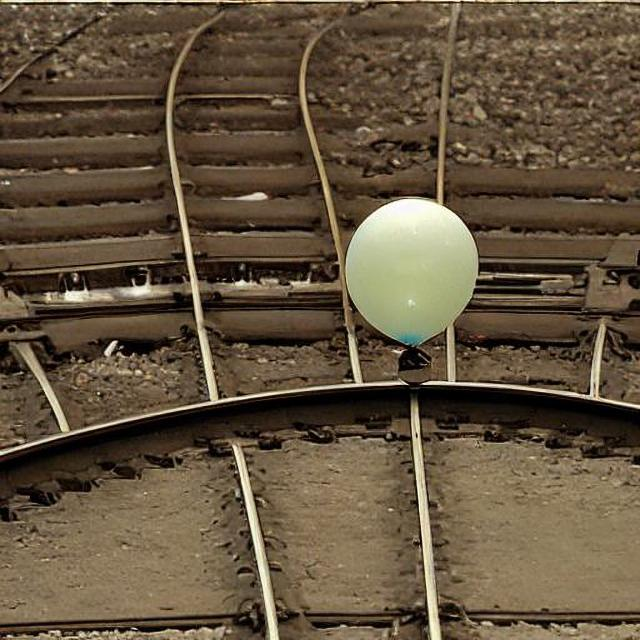balloon: (341, 192, 478, 389)
